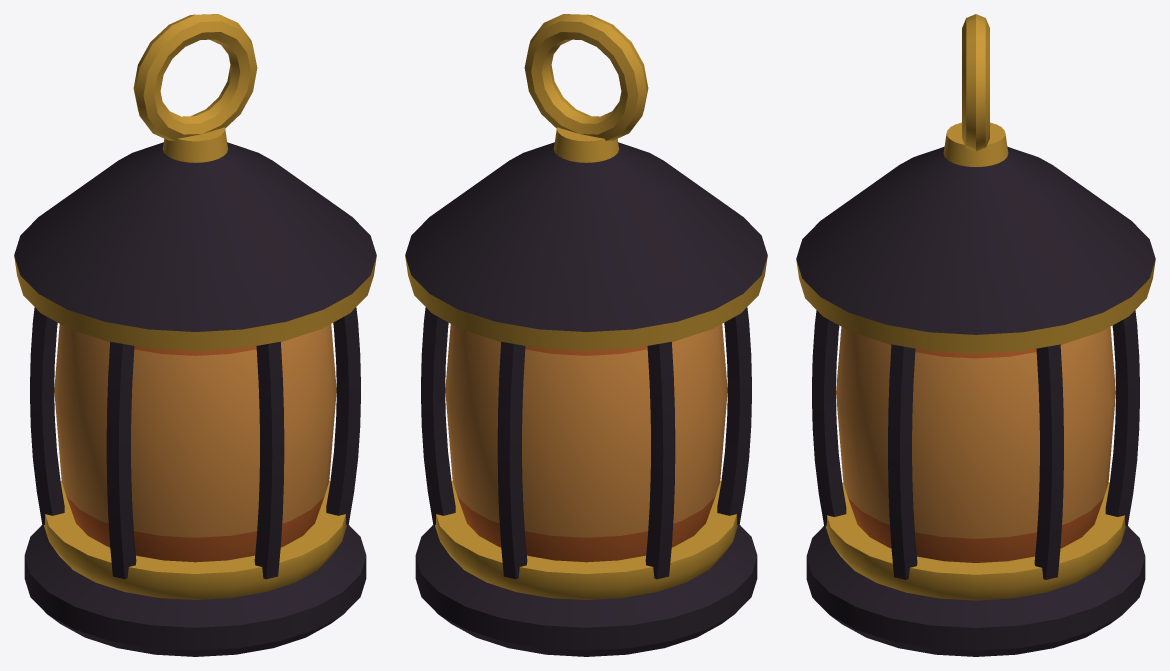
File: Lantern_09.glb
3 views of the same model, side by side, from view 1: azimuth 30°, elevation 25°; view 2: azimuth 150°, elevation 25°; view 3: azimuth 270°, elevation 25° (orthographic).
Parts seen in each view (by area): view 1: Lantern_09; view 2: Lantern_09; view 3: Lantern_09.
Boxes of the visible parts, x1,y1,x2,y2 form: Lantern_09: (14,14,376,656); Lantern_09: (405,14,767,656); Lantern_09: (796,14,1155,656).
Bounding box in the file's own units: 1.3 × 2.28 × 1.3.
